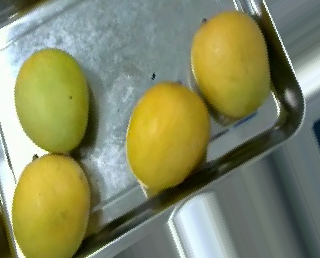Mango: (124, 81, 211, 190), (10, 152, 92, 258), (189, 11, 272, 115), (14, 45, 91, 155)
